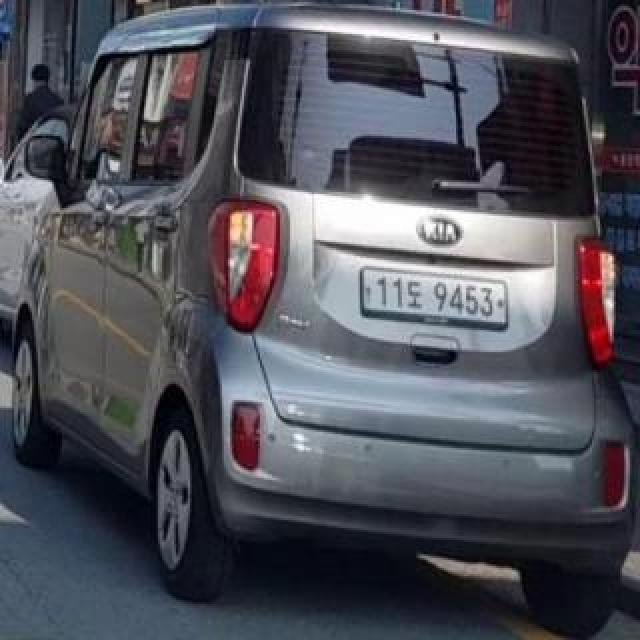car: (9, 2, 640, 640)
illegal_plate: (359, 263, 511, 341)
